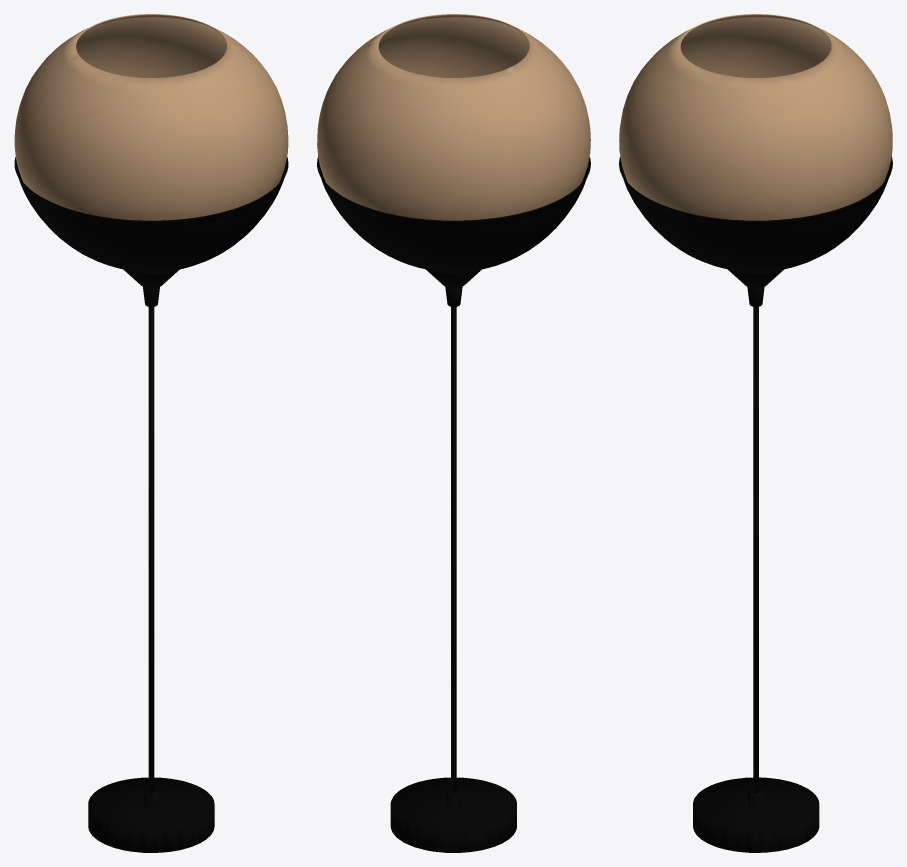
The model's file is kitchen pendant light.fbx.
3 renders of one model, left to right at view 1: azimuth 30°, elevation 25°; view 2: azimuth 150°, elevation 25°; view 3: azimuth 270°, elevation 25°, orthographic.
Parts seen in each view (by area): view 1: Cap; view 2: Cap; view 3: Cap.
Part boxes in pixels (x1,y1,x2,y2): Cap: (14, 14, 288, 852); Cap: (317, 14, 590, 852); Cap: (619, 14, 892, 852).
Size of the model in its own units: 25.85 by 81.25 by 25.85.
